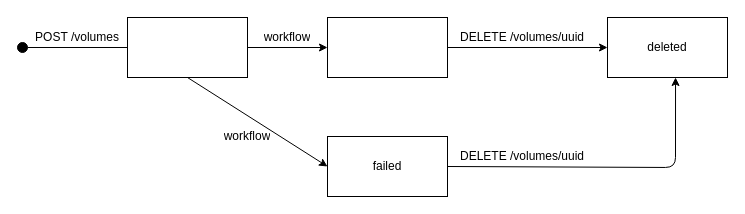
Image size: 745x214. Some labels were removed from this diagram. The centre of each missing label's shape, as x and y in pixels:
created: the point at 387,47
creating: the point at 187,47
